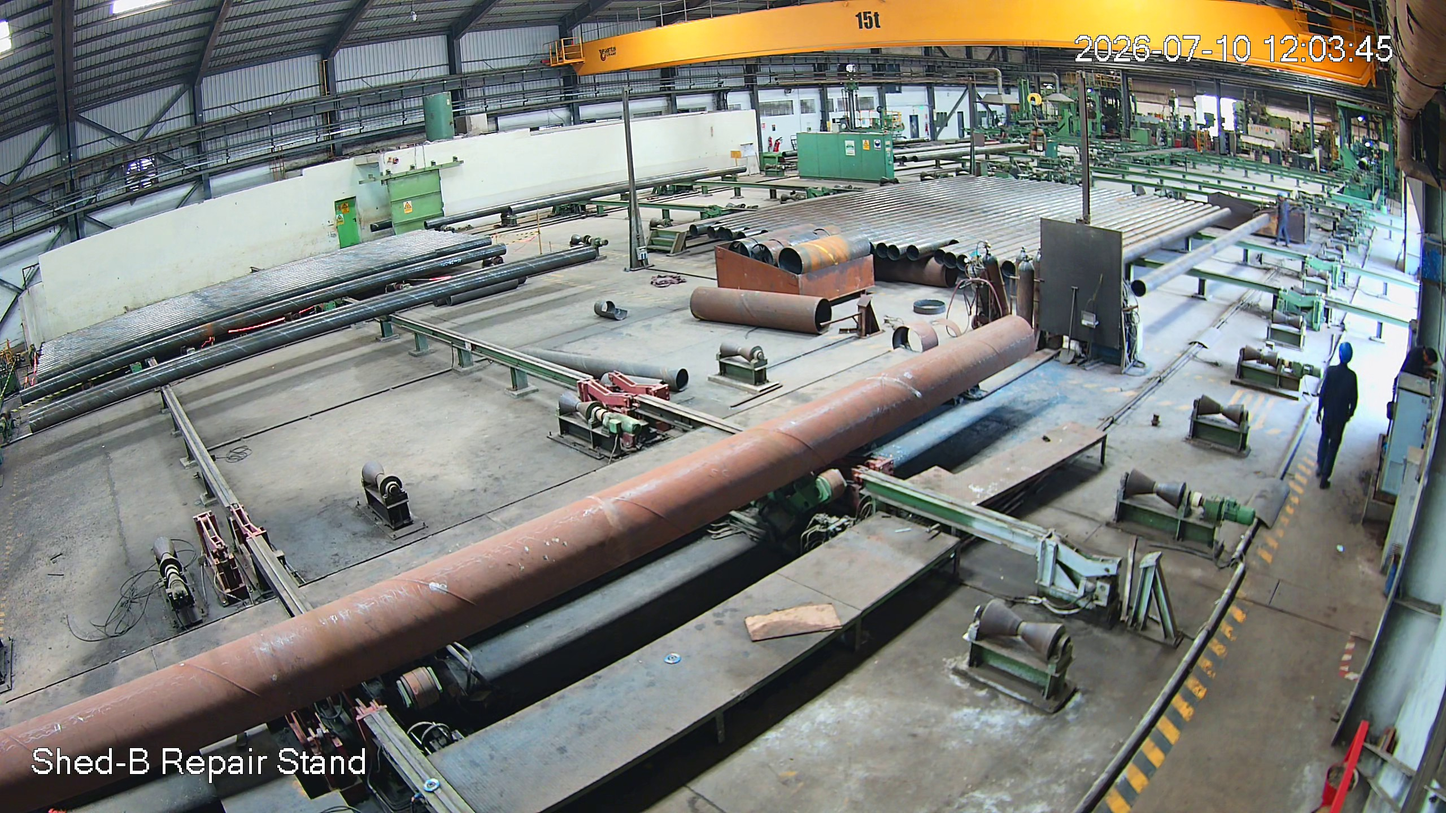Helmet: (1328, 330, 1355, 373)
Person: (1323, 332, 1361, 501)
